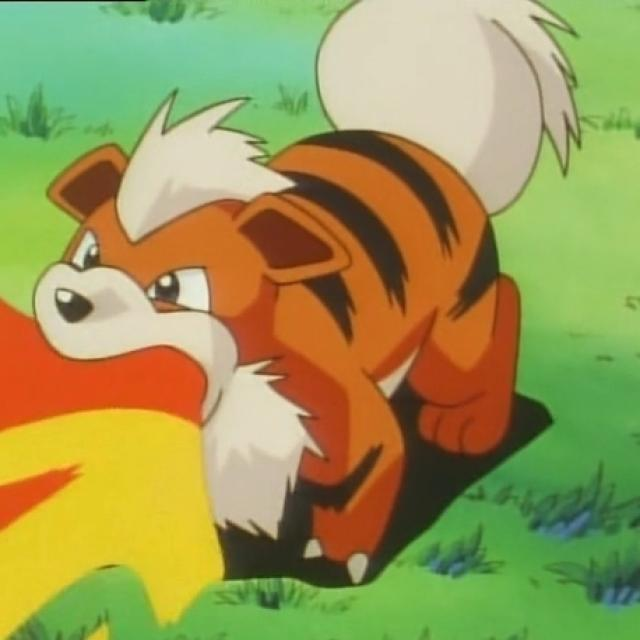Growlithe: (38, 74, 527, 567)
